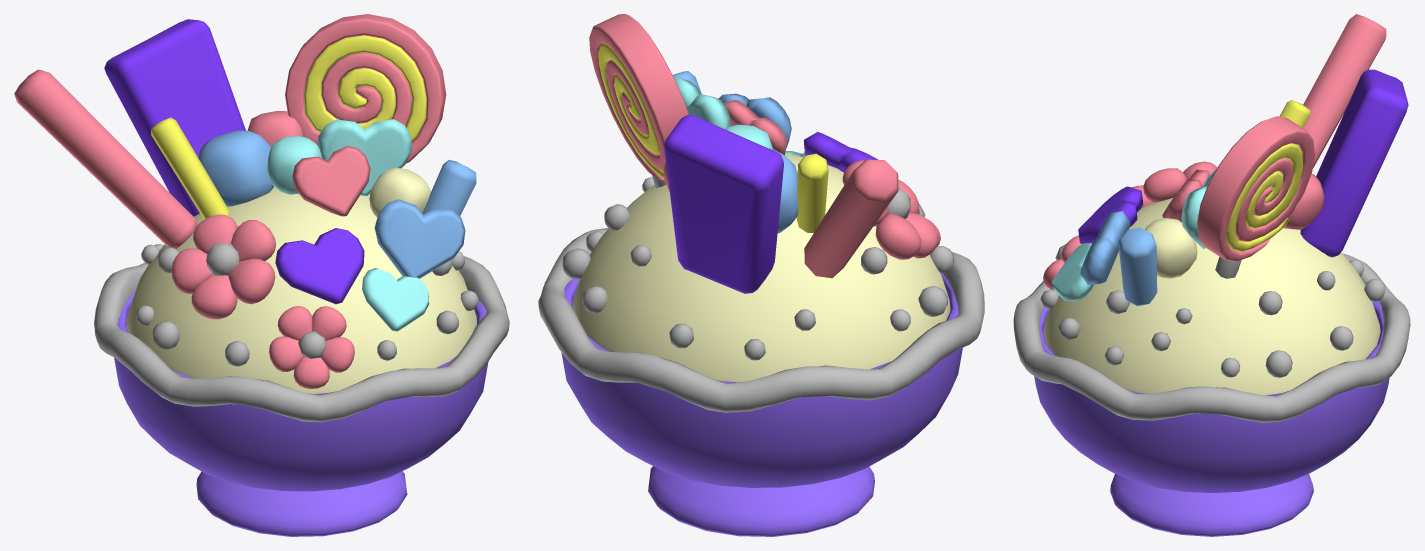
File: Shavedice_Fix.fbx
The picture shows the model from 3 angles, left to right: view 1: azimuth 30°, elevation 25°; view 2: azimuth 150°, elevation 25°; view 3: azimuth 270°, elevation 25°; orthographic projection. The views are drawn at different scales.
Visible parts, largest first — view 1: S_ShavedIce1, S_ShavedIce3, S_ShavedIce2, M_ShavedIce26, S_ShavedIce21, M_ShavedIce13, M_ShavedIce25, S_ShavedIce9, S_ShavedIce22, M_ShavedIce16, M_ShavedIce28, S_ShavedIce15 (+12 smaller); view 2: S_ShavedIce1, S_ShavedIce3, S_ShavedIce2, M_ShavedIce26, M_ShavedIce25, S_ShavedIce21, M_ShavedIce13, S_ShavedIce9, S_ShavedIce22, M_ShavedIce15, M_ShavedIce27, M_ShavedIce28 (+9 smaller); view 3: S_ShavedIce1, S_ShavedIce3, S_ShavedIce2, M_ShavedIce26, S_ShavedIce21, M_ShavedIce25, M_ShavedIce13, S_ShavedIce22, M_ShavedIce14, S_ShavedIce19, M_ShavedIce16, M_ShavedIce28 (+9 smaller).
Part boxes in pixels (bbox=[...]): S_ShavedIce1: bbox=[126, 187, 476, 393]; S_ShavedIce3: bbox=[114, 289, 488, 491]; S_ShavedIce2: bbox=[94, 256, 509, 422]; M_ShavedIce26: bbox=[104, 19, 245, 216]; S_ShavedIce21: bbox=[285, 14, 446, 163]; M_ShavedIce13: bbox=[14, 69, 197, 248]; M_ShavedIce25: bbox=[196, 471, 407, 536]; S_ShavedIce9: bbox=[171, 214, 276, 319]; S_ShavedIce22: bbox=[304, 35, 426, 141]; M_ShavedIce16: bbox=[374, 199, 465, 278]; M_ShavedIce28: bbox=[275, 228, 364, 304]; S_ShavedIce15: bbox=[269, 306, 354, 388]; S_ShavedIce1: bbox=[573, 154, 950, 382]; S_ShavedIce3: bbox=[561, 273, 962, 487]; S_ShavedIce2: bbox=[538, 228, 984, 412]; M_ShavedIce26: bbox=[664, 114, 783, 293]; M_ShavedIce25: bbox=[648, 466, 874, 536]; S_ShavedIce21: bbox=[589, 14, 688, 180]; M_ShavedIce13: bbox=[804, 159, 898, 278]; S_ShavedIce9: bbox=[842, 160, 938, 259]; S_ShavedIce22: bbox=[598, 43, 664, 178]; M_ShavedIce15: bbox=[796, 153, 828, 232]; M_ShavedIce27: bbox=[674, 77, 731, 128]; M_ShavedIce28: bbox=[803, 132, 878, 172]; S_ShavedIce1: bbox=[1043, 198, 1380, 395]; S_ShavedIce3: bbox=[1034, 301, 1389, 492]; S_ShavedIce2: bbox=[1013, 253, 1410, 422]; M_ShavedIce26: bbox=[1300, 69, 1408, 257]; S_ShavedIce21: bbox=[1197, 116, 1314, 261]; M_ShavedIce25: bbox=[1110, 474, 1313, 536]; M_ShavedIce13: bbox=[1303, 14, 1386, 168]; S_ShavedIce22: bbox=[1226, 143, 1303, 251]; M_ShavedIce14: bbox=[1118, 227, 1157, 306]; S_ShavedIce19: bbox=[1145, 218, 1197, 278]; M_ShavedIce16: bbox=[1080, 211, 1130, 284]; M_ShavedIce28: bbox=[1078, 186, 1143, 243].
Bounding box in the file's own units: 445 × 481 × 415.
